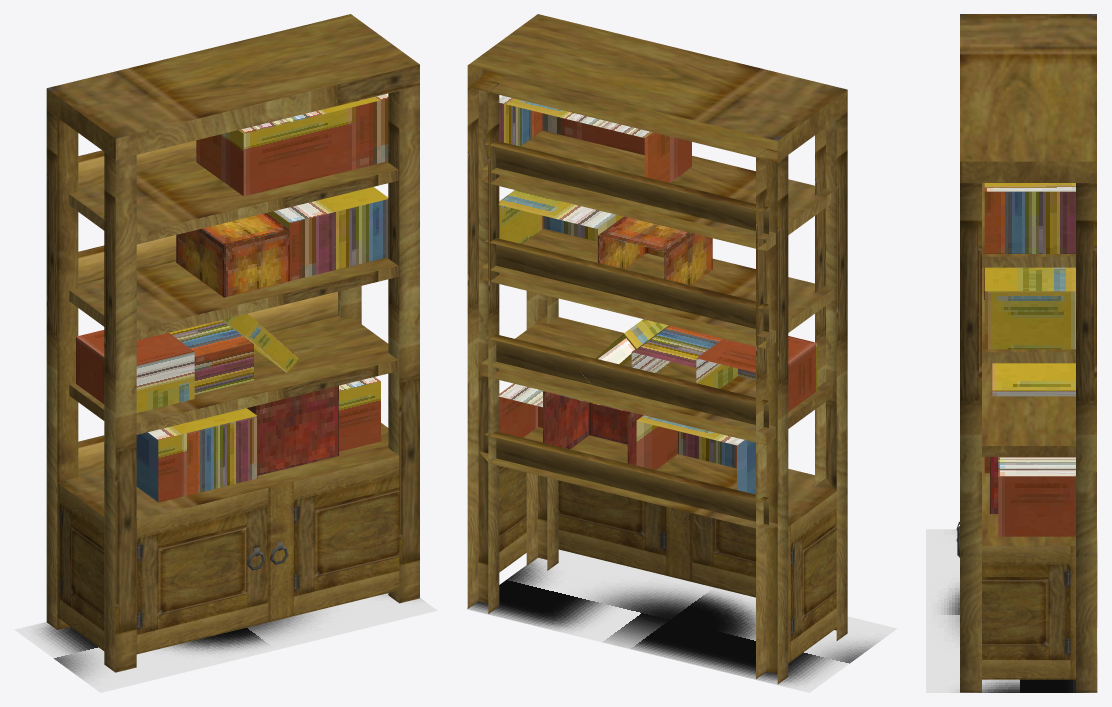
The model's file is F2_Furni_ShelfAsia.dae.
3 views of the same model, side by side, from view 1: azimuth 30°, elevation 25°; view 2: azimuth 150°, elevation 25°; view 3: azimuth 270°, elevation 25° (orthographic). The views are drawn at different scales.
Parts seen in each view (by area): view 1: F2_Furni_ShelfAsia_0_0_node, F2_Furni_ShelfAsia8_2_0_node, F2_Furni_ShelfAsia7_1_0_node, shadow4_4_0_node; view 2: F2_Furni_ShelfAsia_0_0_node, F2_Furni_ShelfAsia8_2_0_node, F2_Furni_ShelfAsia7_1_0_node, shadow4_4_0_node; view 3: F2_Furni_ShelfAsia_0_0_node, F2_Furni_ShelfAsia8_2_0_node, F2_Furni_ShelfAsia7_1_0_node, shadow4_4_0_node.
Boxes of the visible parts, x1,y1,x2,y2 form: F2_Furni_ShelfAsia_0_0_node: (46, 14, 419, 672); F2_Furni_ShelfAsia8_2_0_node: (76, 94, 388, 502); F2_Furni_ShelfAsia7_1_0_node: (69, 160, 398, 434); shadow4_4_0_node: (14, 593, 437, 692); F2_Furni_ShelfAsia_0_0_node: (467, 14, 847, 684); F2_Furni_ShelfAsia8_2_0_node: (497, 96, 817, 494); F2_Furni_ShelfAsia7_1_0_node: (480, 130, 834, 444); shadow4_4_0_node: (466, 549, 897, 692); F2_Furni_ShelfAsia_0_0_node: (960, 14, 1096, 692); F2_Furni_ShelfAsia8_2_0_node: (984, 183, 1075, 536); F2_Furni_ShelfAsia7_1_0_node: (982, 183, 1075, 456); shadow4_4_0_node: (926, 529, 1097, 692).
Bounding box in the file's own units: 11.23 × 17.01 × 4.99.
Materials: 3 (3 with a texture image).
